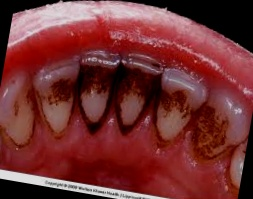Tooth Discoloration: (19, 35, 240, 168)
